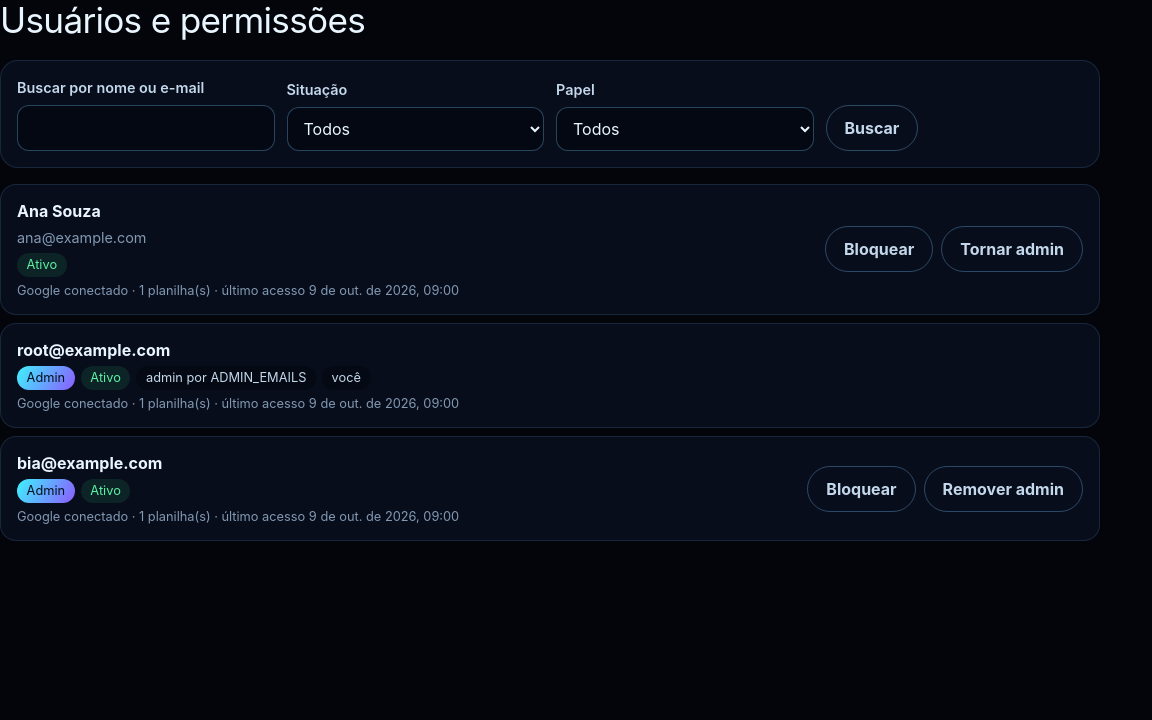
Scenario: AdminUsersPage › explains refusals from the API
Click the button with aria-label "Remover admin: bia@example.com". click: (1003, 489)
box: [924,466,1083,512]
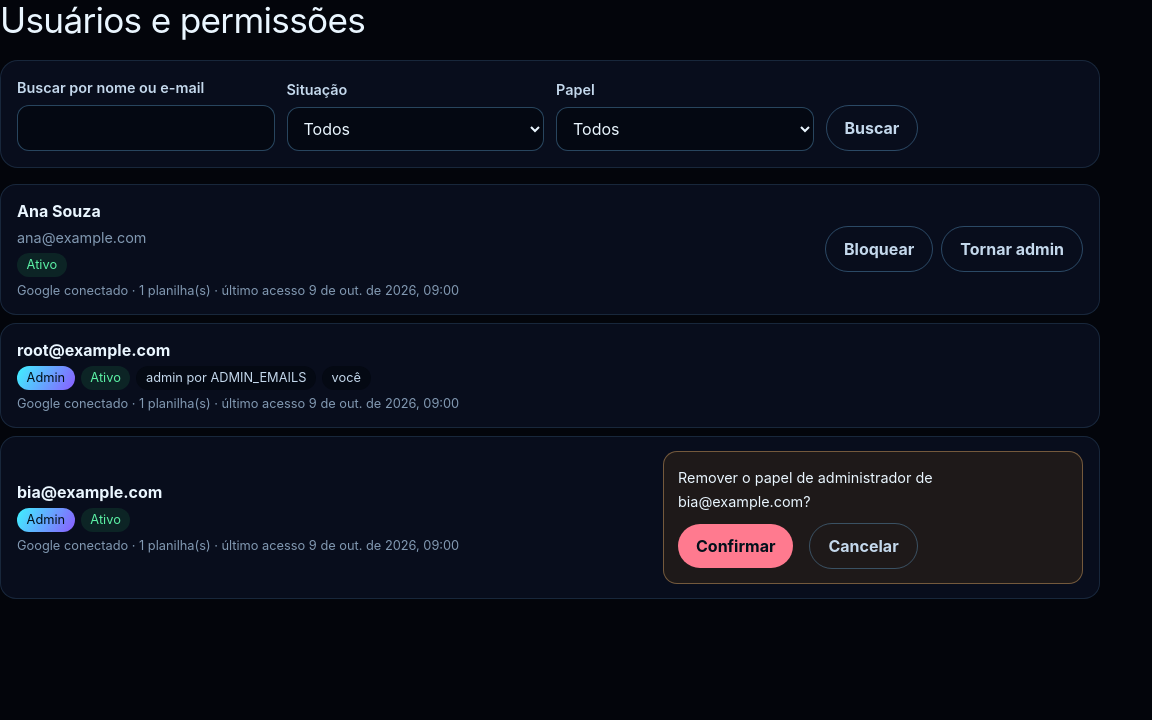
Click the button "Confirmar". click: (736, 546)
box: [678,524,794,568]
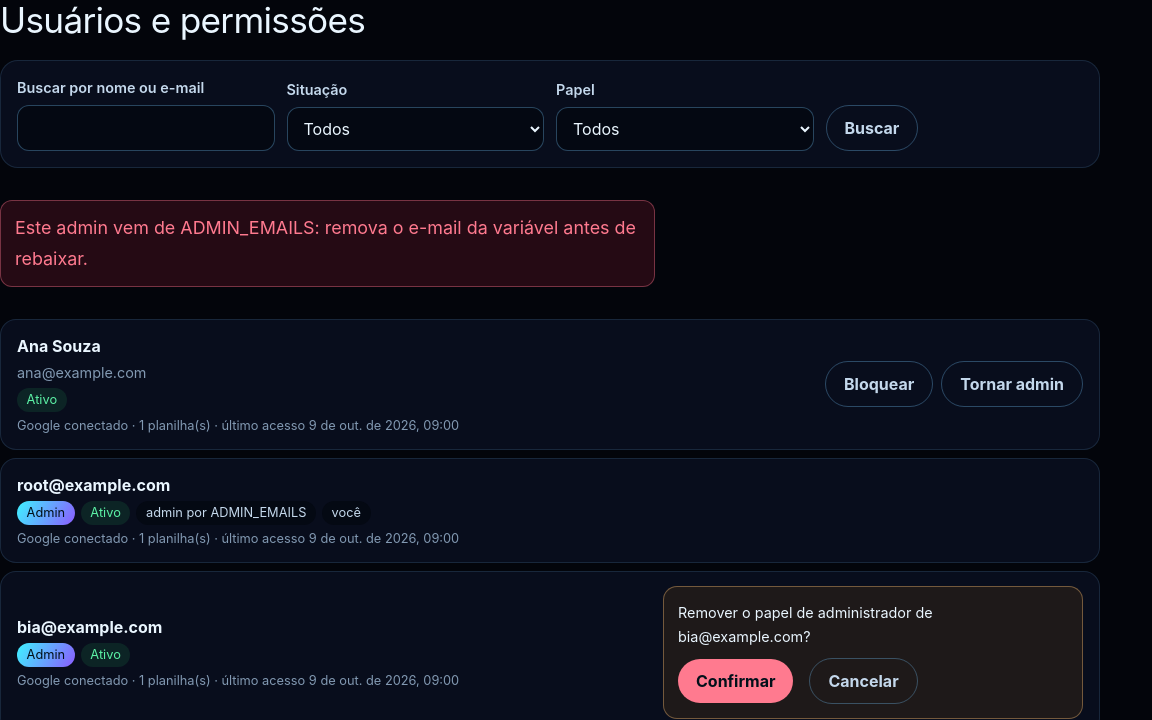
Expected: the message shows "Este admin vem de ADMIN_EMAILS", [15,217,636,269]
